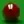brown: (0, 0, 24, 24)
